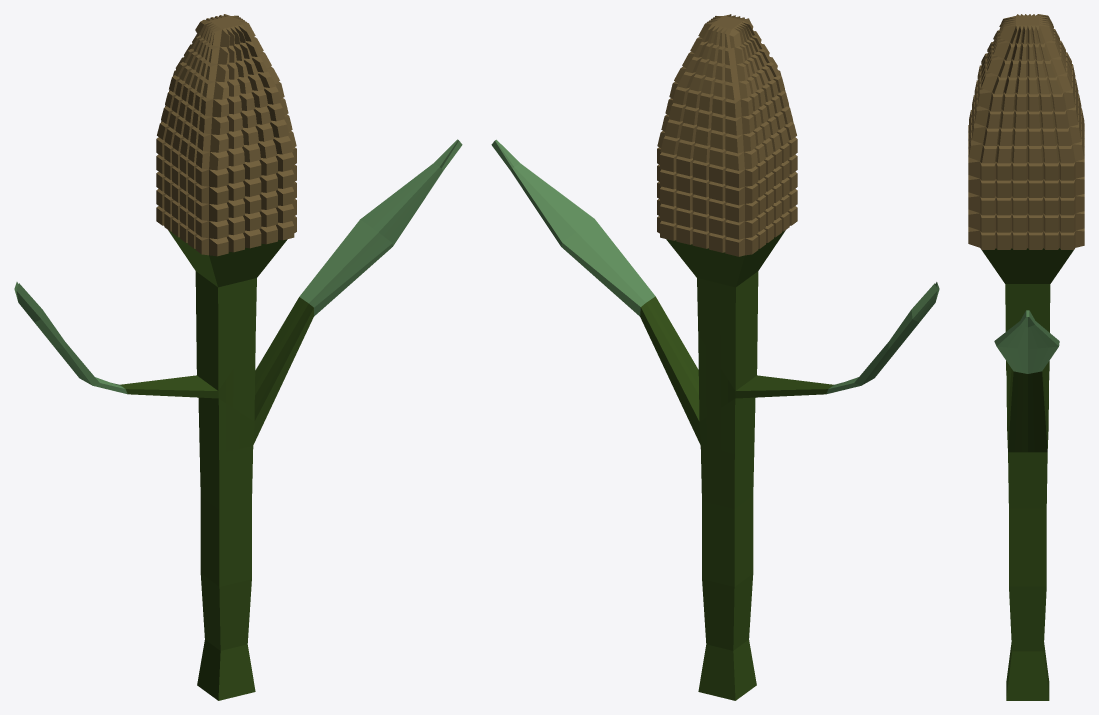
The model's file is corn3.fbx.
3 views of the same model, side by side, from view 1: azimuth 30°, elevation 25°; view 2: azimuth 150°, elevation 25°; view 3: azimuth 270°, elevation 25° (orthographic).
Parts seen in each view (by area): view 1: Cube; view 2: Cube; view 3: Cube.
Part boxes in pixels (x1,y1,x2,y2): Cube: (14,14,462,700); Cube: (491,14,939,700); Cube: (968,14,1084,700).
Size of the model in its own units: 676 by 964 by 151.
